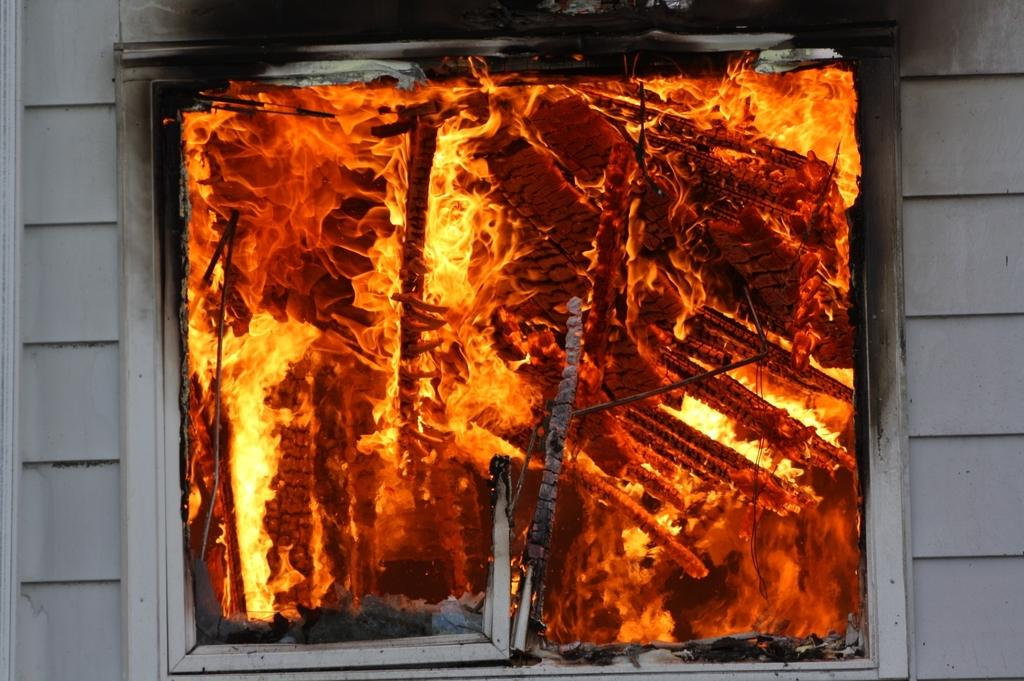fire: (175, 0, 864, 669), (518, 160, 844, 657)
